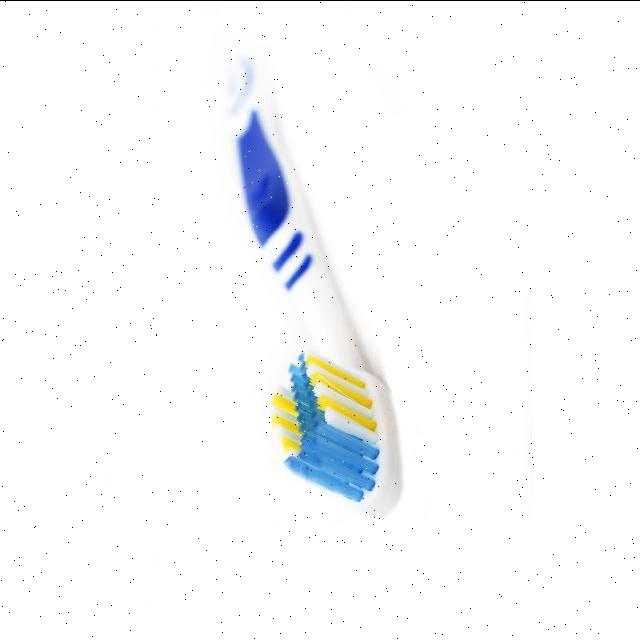toothbrush: (193, 148, 439, 524)
